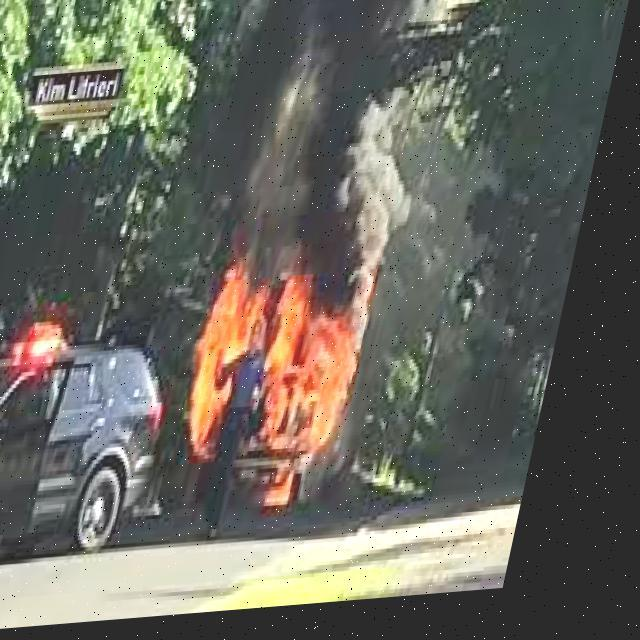Fire: (183, 254, 400, 501)
